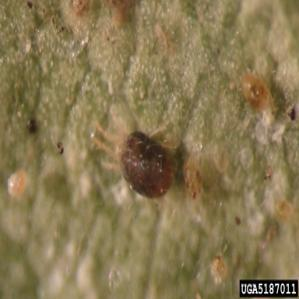spider mite: (86, 101, 194, 218), (239, 71, 273, 109)
